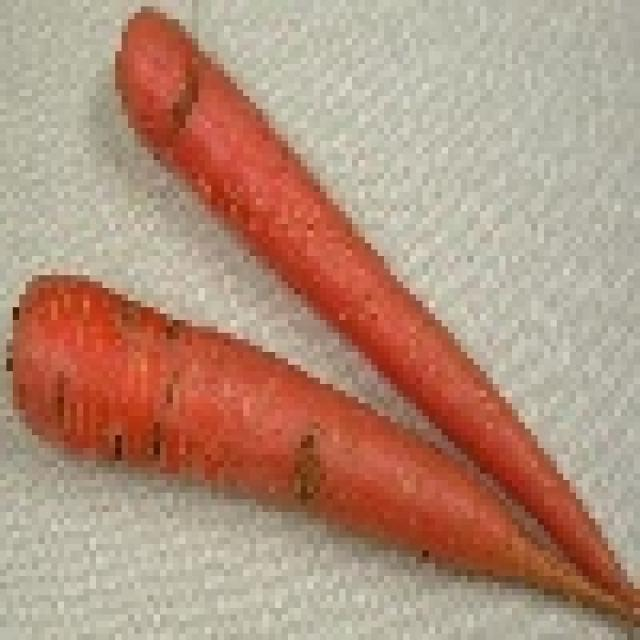Stale_Carrot: (118, 12, 631, 604), (15, 278, 640, 621)
